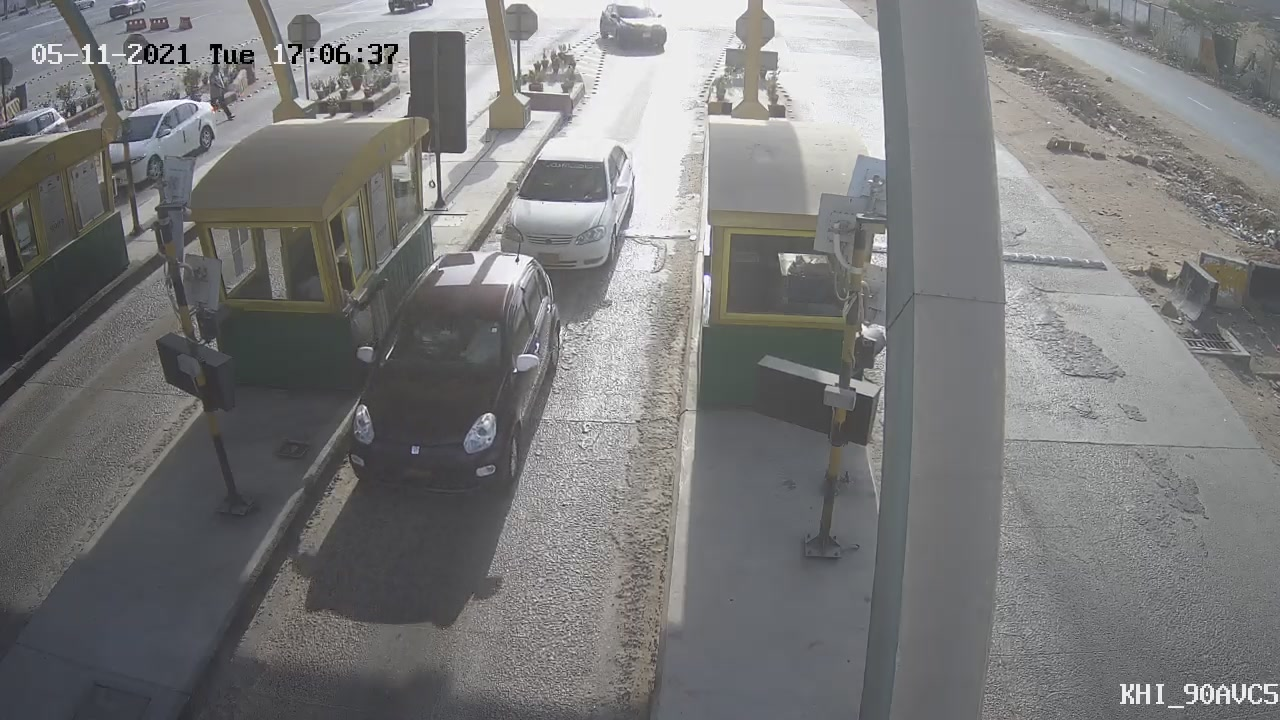F1: (322, 229, 583, 526), (479, 118, 651, 295)
